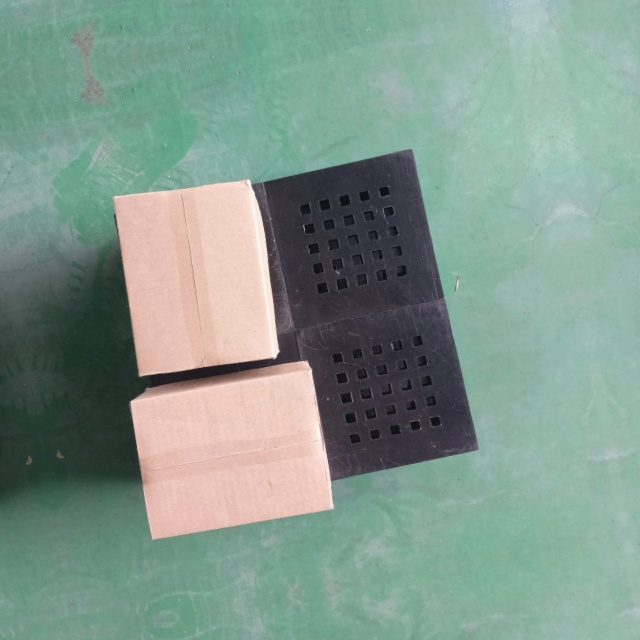box: (126, 362, 334, 541), (111, 176, 280, 381)
